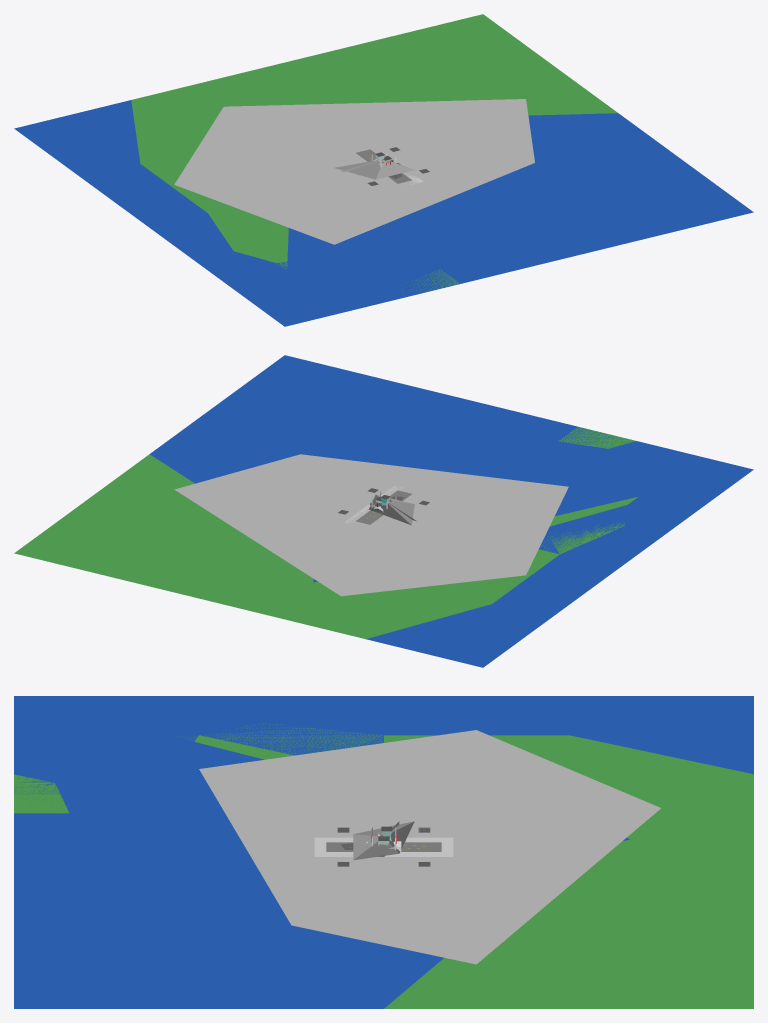
3 views of the same model, one above another, from view 1: azimuth 30°, elevation 25°; view 2: azimuth 150°, elevation 25°; view 3: azimuth 270°, elevation 25° (orthographic). The views are drawn at different scales.
Visible parts, largest first — view 1: me_021_lod0, me_003_lod0, me_002_lod0, me_001_lod0, me_004_lod0, me_010_lod0; view 2: me_021_lod0, me_003_lod0, me_001_lod0, me_002_lod0, me_004_lod0, me_010_lod0; view 3: me_021_lod0, me_003_lod0, me_002_lod0, me_001_lod0, me_004_lod0, me_043_lod0, me_010_lod0, me_043_lod0_s1v0.
Boxes of the visible parts, left/top/right/bottom form: me_021_lod0: left=174, top=99, right=534, bottom=244; me_003_lod0: left=276, top=113, right=753, bottom=325; me_002_lod0: left=285, top=14, right=617, bottom=326; me_001_lod0: left=14, top=71, right=287, bottom=326; me_004_lod0: left=208, top=14, right=617, bottom=268; me_010_lod0: left=334, top=160, right=414, bottom=179; me_021_lod0: left=174, top=454, right=568, bottom=596; me_003_lod0: left=149, top=355, right=738, bottom=582; me_001_lod0: left=249, top=469, right=753, bottom=667; me_002_lod0: left=14, top=423, right=753, bottom=553; me_004_lod0: left=14, top=454, right=638, bottom=610; me_010_lod0: left=368, top=494, right=414, bottom=525; me_021_lod0: left=199, top=730, right=660, bottom=964; me_003_lod0: left=14, top=696, right=629, bottom=1008; me_002_lod0: left=14, top=696, right=752, bottom=1008; me_001_lod0: left=14, top=696, right=753, bottom=852; me_004_lod0: left=176, top=723, right=753, bottom=1008; me_043_lod0: left=314, top=837, right=453, bottom=856; me_010_lod0: left=353, top=821, right=414, bottom=860; me_043_lod0_s1v0: left=326, top=842, right=441, bottom=851.
Size of what is drawn, in the model's own units: 4096 by 132 by 4096.
